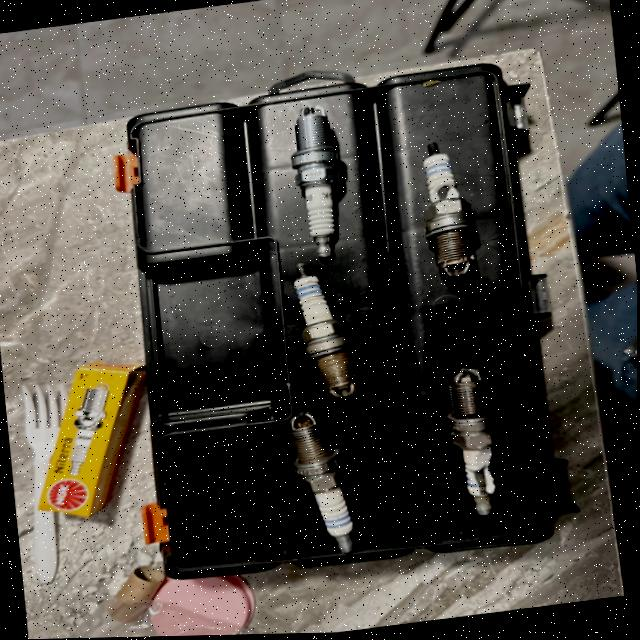damaged_spark-plug: (437, 363, 502, 526), (413, 143, 478, 287)
spark-plug: (270, 404, 369, 568), (281, 257, 370, 404), (289, 105, 350, 262)
